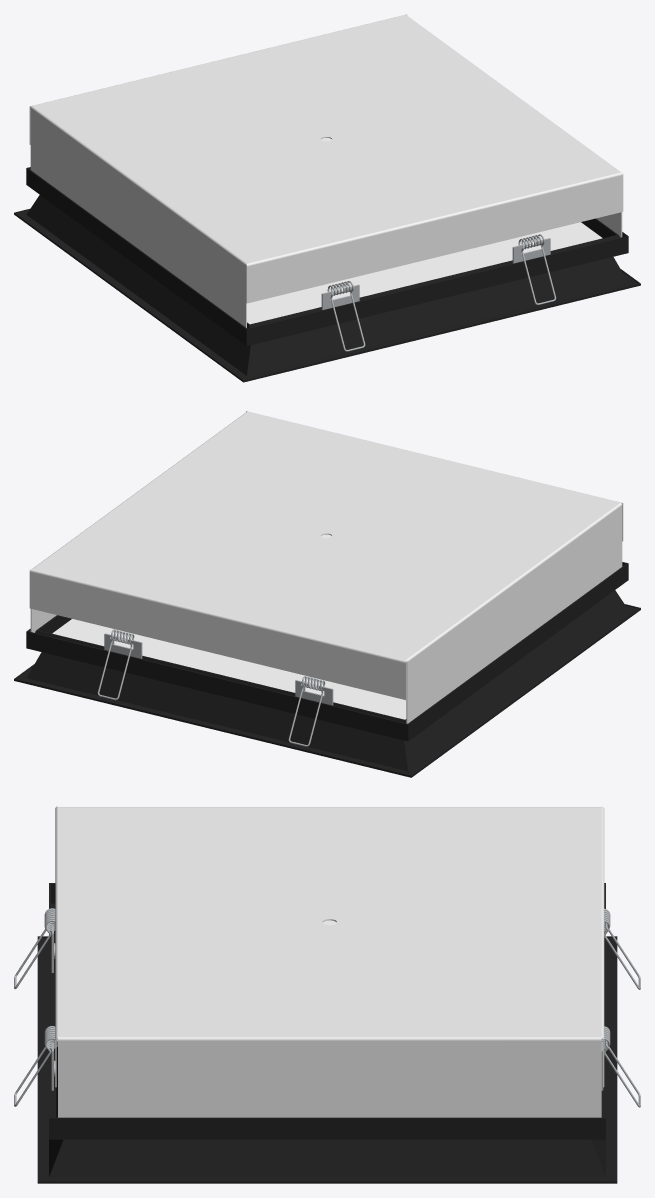
File: ImoEmbutido.glb
The picture shows the model from 3 angles, top to bottom: view 1: azimuth 30°, elevation 25°; view 2: azimuth 150°, elevation 25°; view 3: azimuth 270°, elevation 25°; orthographic projection. The views are drawn at different scales.
Visible parts, largest first — view 1: 3DGeom-1, 3DGeom-4 (×2), 3DGeom-8, 3DGeom-2 (×2); view 2: 3DGeom-1, 3DGeom-4 (×2), 3DGeom-8, 3DGeom-2 (×2); view 3: 3DGeom-1, 3DGeom-4 (×3), 3DGeom-2 (×2).
Part boxes in pixels (x1,y1,x2,y2): 3DGeom-1: [29, 14, 623, 327]; 3DGeom-4 (×2): [14, 168, 640, 382]; 3DGeom-8: [247, 138, 602, 324]; 3DGeom-2 (×2): [327, 234, 556, 351]; 3DGeom-1: [29, 411, 623, 723]; 3DGeom-4 (×2): [14, 563, 640, 777]; 3DGeom-8: [52, 534, 406, 719]; 3DGeom-2 (×2): [97, 629, 325, 746]; 3DGeom-1: [55, 806, 604, 1117]; 3DGeom-4 (×3): [37, 883, 617, 1183]; 3DGeom-2 (×2): [14, 908, 57, 1106].
Size of the model in its own units: 0.321 by 0.085 by 0.3472.
4 materials, 1 textured.
